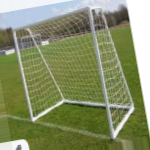goals: (12, 5, 135, 142)
